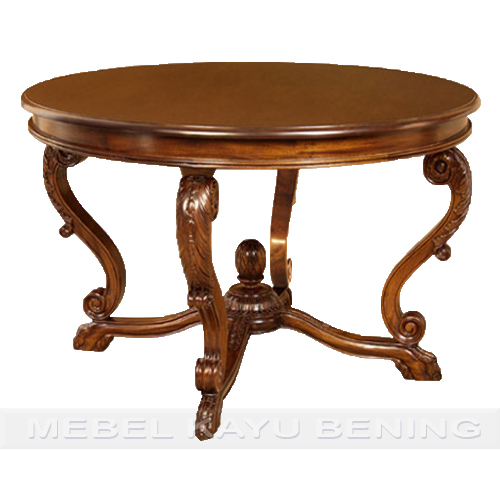Carving Table: (20, 63, 470, 413)
